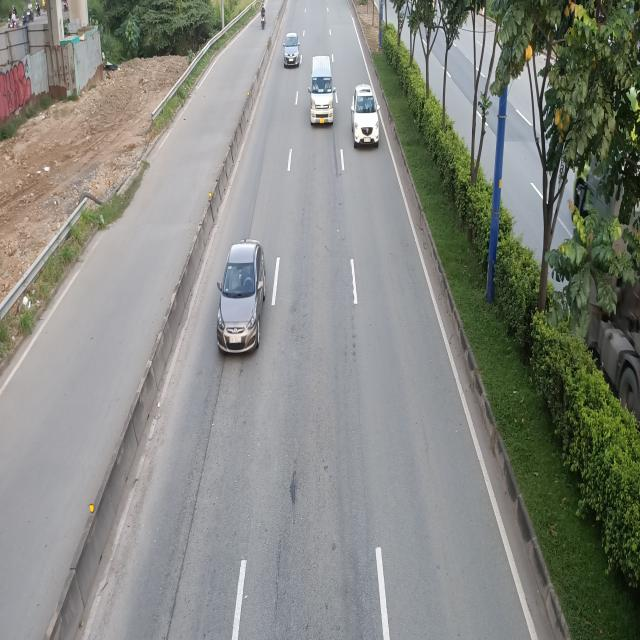car: (217, 240, 266, 355), (349, 85, 380, 148), (283, 30, 300, 67)
van: (308, 56, 336, 128)
